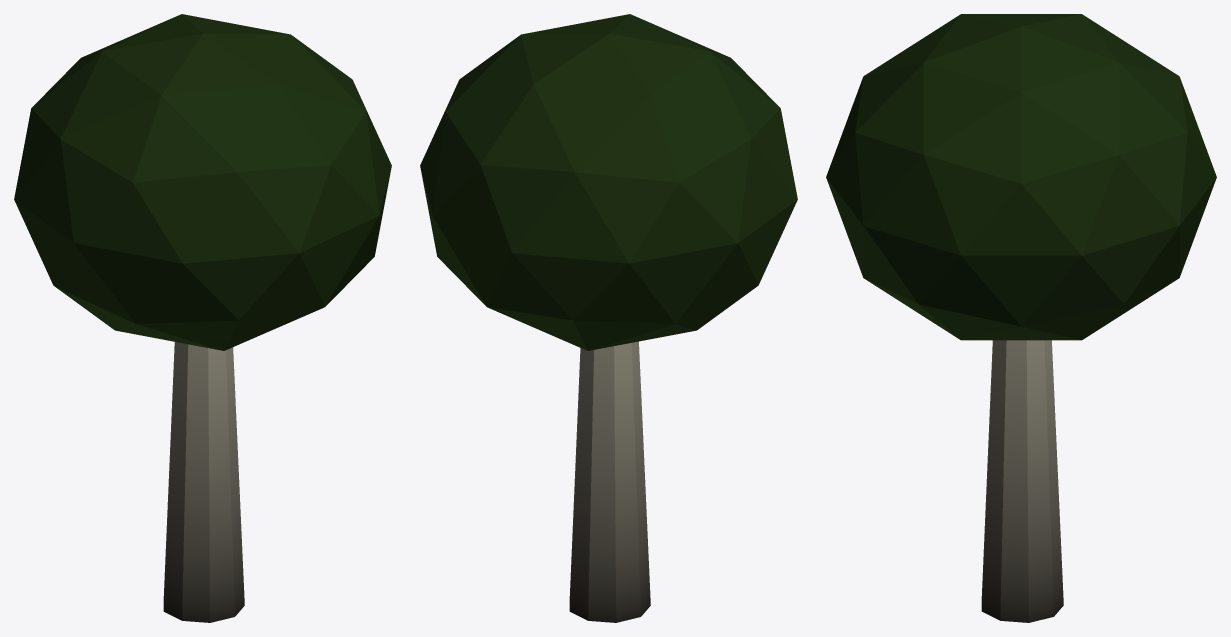
File: SM_Tree_01_birch.fbx
3 views of the same model, side by side, from view 1: azimuth 30°, elevation 25°; view 2: azimuth 150°, elevation 25°; view 3: azimuth 270°, elevation 25° (orthographic).
Parts seen in each view (by area): view 1: SM_Tree_01; view 2: SM_Tree_01; view 3: SM_Tree_01.
Boxes of the visible parts, box(x1,y1,x2,y2) form: SM_Tree_01: box(14, 14, 391, 622); SM_Tree_01: box(420, 14, 797, 622); SM_Tree_01: box(826, 14, 1216, 622).
Size of the model in its own units: 114 by 196 by 120.
